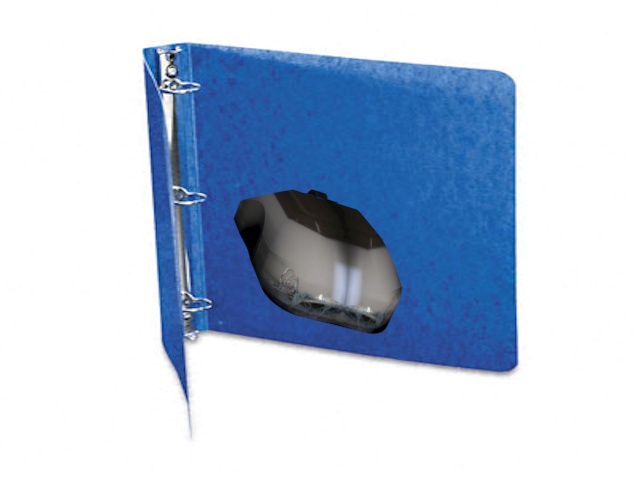mouse: (233, 185, 408, 336)
